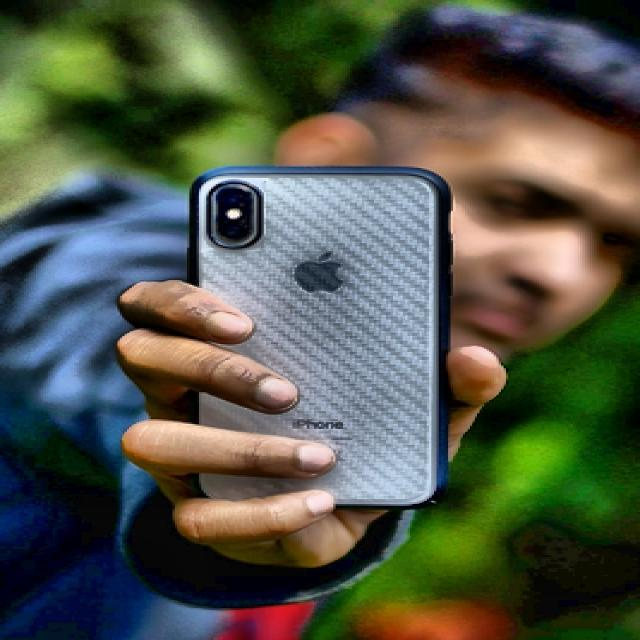Phone: (179, 162, 456, 516)
